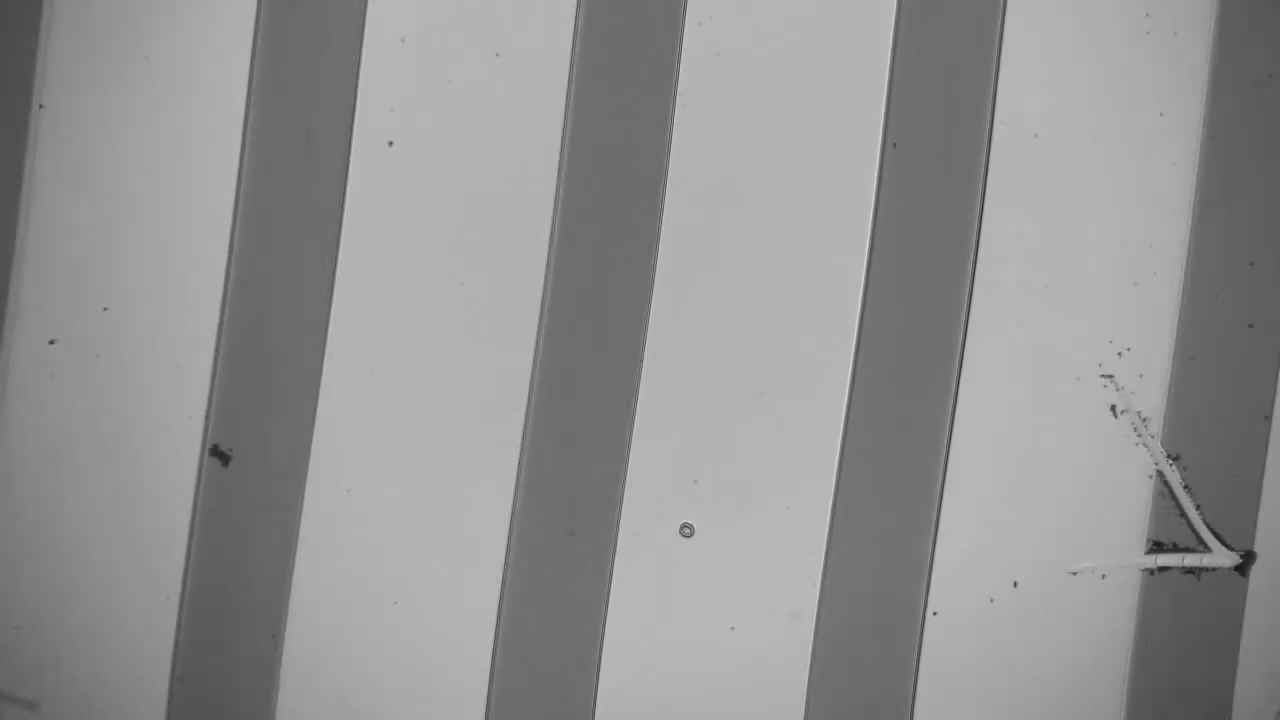Short_circuit: (1117, 531, 1271, 607)
